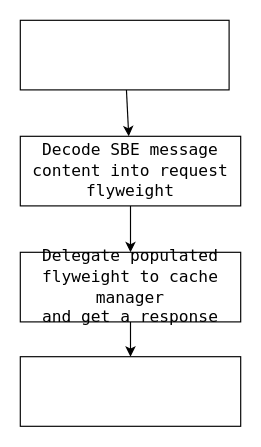
Some shapes in this 261 by 447 pixel diagram are drawn without their labels. The centre of each missing label's shape, as x and y in pixels:
"Cluster Service onSessionMessage()" belongs at point 124,54.
"Pass Cache Manager response to post event handler" belongs at point 130,391.
